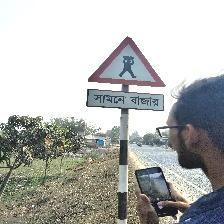Market-in-front: (86, 36, 166, 112)
